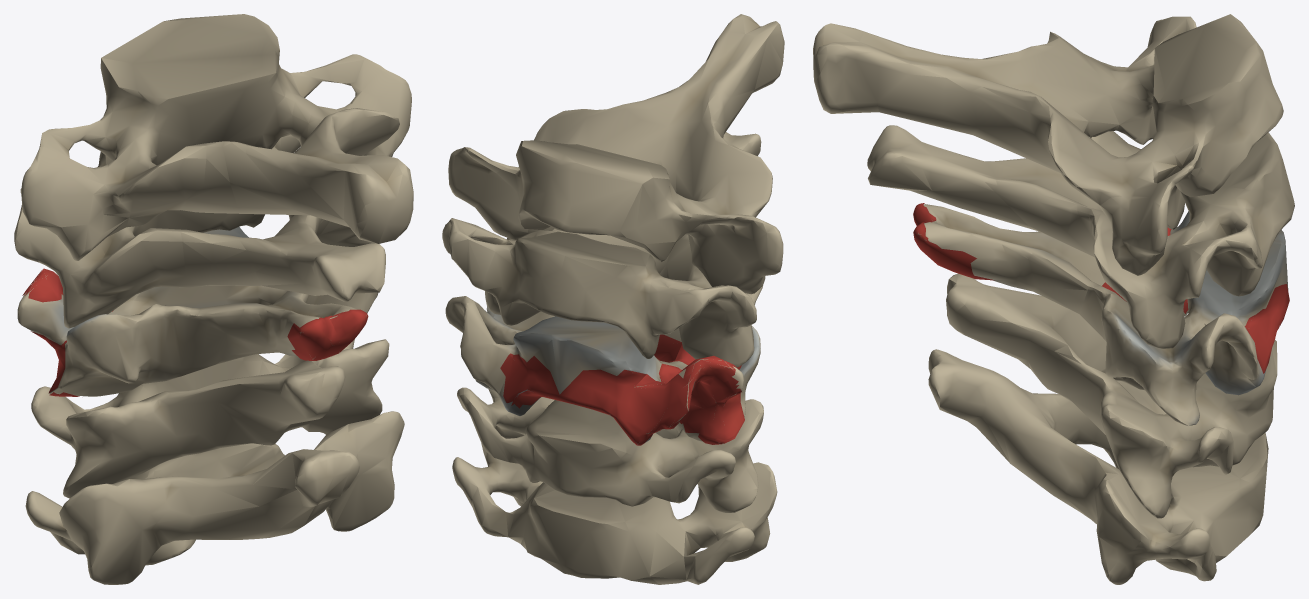
File: vertebrae-cervicales.glb
The picture shows the model from 3 angles, left to right: view 1: azimuth 30°, elevation 25°; view 2: azimuth 150°, elevation 25°; view 3: azimuth 270°, elevation 25°; orthographic projection. The views are drawn at different scales.
Parts seen in each view (by area): view 1: FJ3172, FJ3161, FJ3164, FJ3170, FJ3167, vertebrae-cervicales__transversus-foramen-chassaignac, origo__spinosus-prominens__FJ1521, vertebrae-cervicales__spinosus-prominens, origo__transversus-foramen-chassaignac__FJ1592; view 2: FJ3172, FJ3170, FJ3161, FJ3164, origo__corpus-uncinatus__m-longus-colli, FJ3167, origo__transversus-foramen-chassaignac__FJ1592, vertebrae-cervicales__transversus-foramen-chassaignac; view 3: FJ3172, FJ3170, FJ3161, FJ3164, FJ3167, vertebrae-cervicales__spinosus-prominens, origo__corpus-uncinatus__m-longus-colli, origo__spinosus-prominens__FJ1521.
Boxes of the visible parts, x1=… form: FJ3172: x1=21, y1=14, x2=413, y2=260; FJ3161: x1=25, y1=411, x2=404, y2=584; FJ3164: x1=31, y1=339, x2=389, y2=498; FJ3170: x1=14, y1=134, x2=385, y2=328; FJ3167: x1=43, y1=227, x2=385, y2=396; vertebrae-cervicales__transversus-foramen-chassaignac: x1=17, y1=278, x2=193, y2=390; origo__spinosus-prominens__FJ1521: x1=287, y1=309, x2=368, y2=360; vertebrae-cervicales__spinosus-prominens: x1=182, y1=293, x2=366, y2=359; origo__transversus-foramen-chassaignac__FJ1592: x1=22, y1=268, x2=79, y2=396; FJ3172: x1=448, y1=14, x2=784, y2=294; FJ3170: x1=442, y1=132, x2=763, y2=367; FJ3161: x1=452, y1=426, x2=777, y2=584; FJ3164: x1=457, y1=387, x2=763, y2=512; origo__corpus-uncinatus__m-longus-colli: x1=500, y1=334, x2=744, y2=445; FJ3167: x1=445, y1=296, x2=702, y2=442; origo__transversus-foramen-chassaignac__FJ1592: x1=679, y1=355, x2=741, y2=444; vertebrae-cervicales__transversus-foramen-chassaignac: x1=689, y1=326, x2=760, y2=417; FJ3172: x1=813, y1=14, x2=1283, y2=275; FJ3170: x1=867, y1=125, x2=1294, y2=348; FJ3161: x1=928, y1=349, x2=1268, y2=584; FJ3164: x1=946, y1=273, x2=1277, y2=518; FJ3167: x1=923, y1=204, x2=1288, y2=425; vertebrae-cervicales__spinosus-prominens: x1=918, y1=204, x2=1090, y2=301; origo__corpus-uncinatus__m-longus-colli: x1=1102, y1=227, x2=1289, y2=373; origo__spinosus-prominens__FJ1521: x1=913, y1=203, x2=994, y2=280.
Size of the model in its own units: 65.16 by 81.03 by 70.4.
